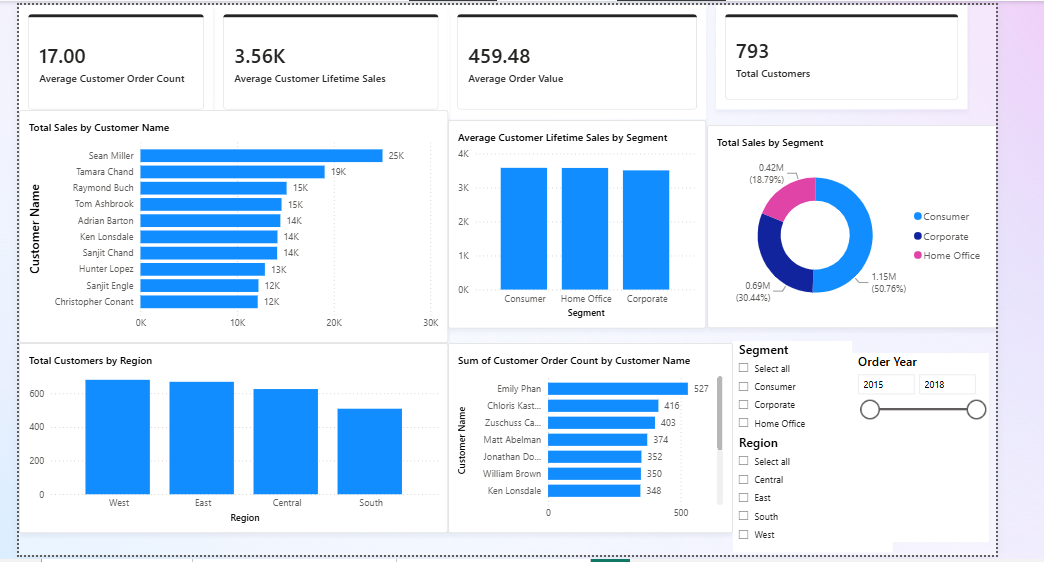

What the dashboard file says about the page in this screenshot:
{"tool":"powerbi","page":{"name":"Customer Analysis Dashboard","canvas":[1280,720],"ordinal":1},"visuals":[{"type":"cardVisual","fields":{"Data":["Table.Average Order Value"]},"box":[561.6,0,338.4,149.8],"z":0},{"type":"cardVisual","fields":{"Data":["Table.Average Customer Lifetime Sales"]},"box":[254.9,0,306.7,149.8],"z":1},{"type":"cardVisual","fields":{"Data":["Table.Average Customer Order Count"]},"box":[0,0,254.9,149.8],"z":2},{"type":"cardVisual","fields":{"Data":["Table.Total Customers"]},"box":[913,0,329.8,136.8],"z":3},{"type":"clusteredBarChart","fields":{"Category":["featured_data.Customer Name"],"Y":["Table.Total Sales"]},"box":[0,136.8,561.6,305.3],"z":4},{"type":"donutChart","fields":{"Y":["Table.Total Sales"],"Category":["featured_data.Segment"]},"box":[900,157,380.2,266.4],"z":5},{"type":"clusteredColumnChart","fields":{"Category":["featured_data.Region"],"Y":["Table.Total Customers"]},"box":[0,442,562,249],"z":6},{"type":"columnChart","fields":{"Y":["Table.Average Customer Lifetime Sales"],"Category":["featured_data.Segment"]},"box":[562,150,338,273],"z":7},{"type":"barChart","fields":{"Category":["featured_data.Customer Name"],"Y":["Sum(featured_data.Customer Order Count)"]},"box":[561.6,442.1,373,249.1],"z":8},{"type":"slicer","fields":{"Values":["featured_data.Segment"]},"box":[934.1,439.2,156.4,126.3],"z":9},{"type":"slicer","fields":{"Values":["featured_data.Region"]},"box":[934.1,561,209.1,154.9],"z":10},{"type":"slicer","fields":{"Values":["featured_data.Order Year"]},"box":[1090.5,455.7,179,246.7],"z":11}]}

Visuals, with their boxes on the page's 1280x720 design canvas (x1, y1, x2, y2). These are canvas units, not pixel positions in the 1044x562 screenshot, which may show the page scaled, cropped or inside an application window:
cardVisual - Table.Average Order Value: 562, 0, 900, 150
cardVisual - Table.Average Customer Lifetime Sales: 255, 0, 562, 150
cardVisual - Table.Average Customer Order Count: 0, 0, 255, 150
cardVisual - Table.Total Customers: 913, 0, 1243, 137
clusteredBarChart - featured_data.Customer Name x Table.Total Sales: 0, 137, 562, 442
donutChart - Table.Total Sales x featured_data.Segment: 900, 157, 1280, 423
clusteredColumnChart - featured_data.Region x Table.Total Customers: 0, 442, 562, 691
columnChart - Table.Average Customer Lifetime Sales x featured_data.Segment: 562, 150, 900, 423
barChart - featured_data.Customer Name x Sum(featured_data.Customer Order Count): 562, 442, 935, 691
slicer - featured_data.Segment: 934, 439, 1090, 566
slicer - featured_data.Region: 934, 561, 1143, 716
slicer - featured_data.Order Year: 1090, 456, 1270, 702
